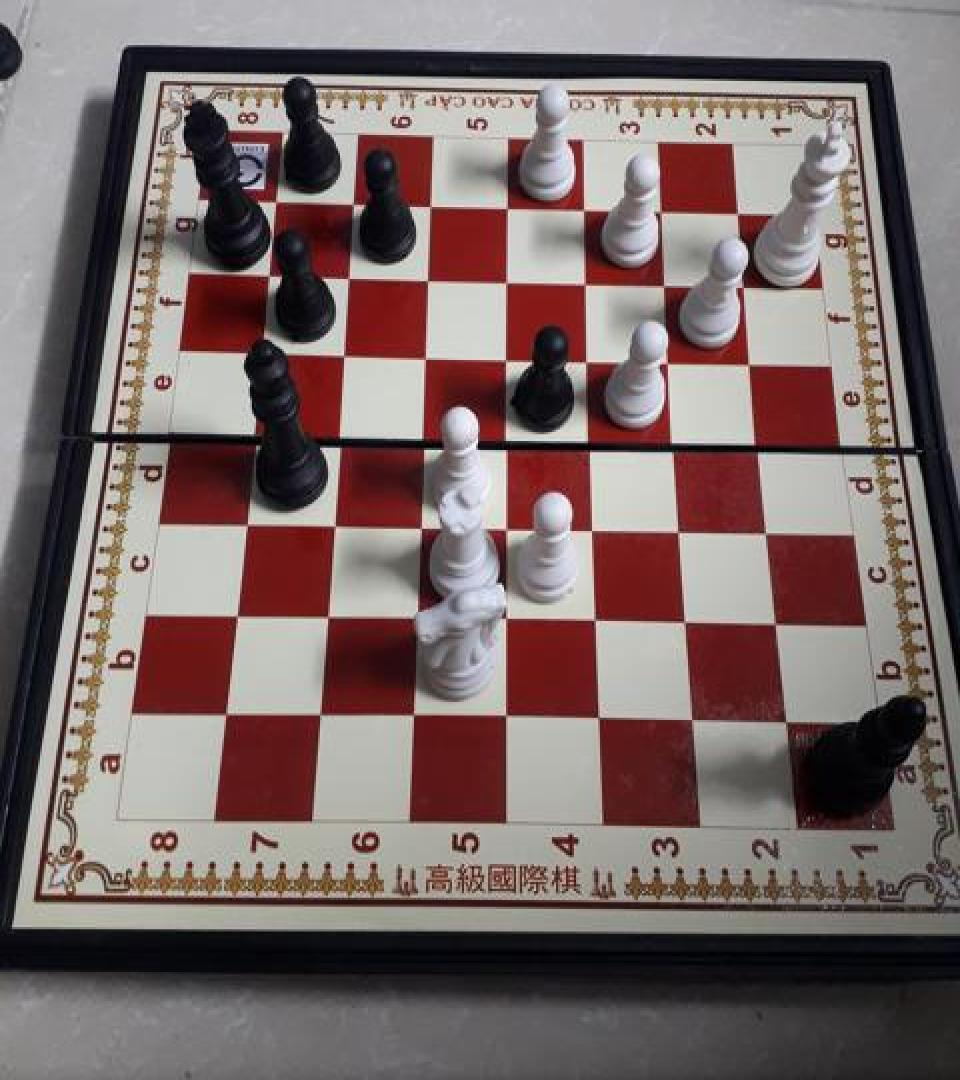xcorner: (210, 697, 242, 734), (305, 698, 337, 735), (400, 700, 432, 736), (493, 701, 525, 737), (586, 702, 618, 738), (679, 702, 711, 738), (771, 703, 803, 739), (220, 598, 252, 634), (312, 600, 344, 636), (403, 601, 435, 637), (494, 602, 526, 638), (584, 603, 616, 639), (674, 604, 706, 640), (762, 605, 794, 641), (229, 504, 261, 540), (318, 506, 350, 542), (407, 508, 439, 544), (495, 508, 527, 544), (582, 511, 614, 547), (669, 512, 701, 548), (755, 513, 787, 549), (238, 416, 270, 452), (324, 418, 356, 454), (410, 420, 442, 456), (495, 422, 527, 458), (580, 423, 612, 459), (664, 425, 696, 461), (747, 426, 779, 462), (246, 334, 278, 370), (330, 336, 362, 372), (413, 338, 445, 374), (496, 340, 528, 376), (578, 342, 610, 378), (659, 343, 691, 379), (740, 346, 772, 382), (254, 256, 286, 292), (335, 258, 367, 294), (416, 260, 448, 296), (496, 262, 528, 298), (576, 264, 608, 300), (734, 269, 766, 305), (261, 182, 293, 218), (340, 184, 372, 220), (418, 187, 450, 223), (497, 189, 529, 225), (574, 191, 606, 227), (651, 194, 683, 230), (728, 196, 760, 232), (655, 267, 687, 302)
